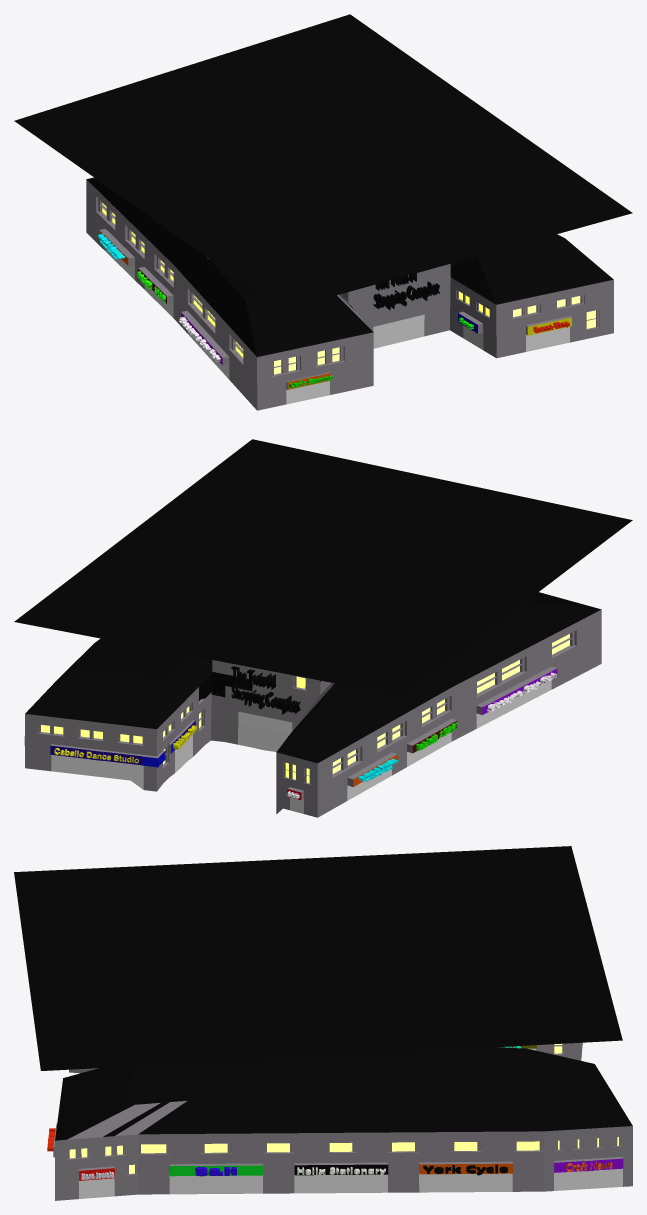
File: the_h_shopping_complex.fbx
The picture shows the model from 3 angles, top to bottom: view 1: azimuth 30°, elevation 25°; view 2: azimuth 150°, elevation 25°; view 3: azimuth 270°, elevation 25°; orthographic projection. The views are drawn at different scales.
Visible parts, largest first — view 1: Plane, Text; view 2: Plane, Text.010; view 3: Plane, Text.007, Text.006.
Part boxes in pixels (left/top/right/bottom): Plane: left=14, top=14, right=632, bottom=410; Text: left=373, top=273, right=439, bottom=309; Plane: left=14, top=439, right=632, bottom=817; Text.010: left=231, top=666, right=300, bottom=714; Plane: left=14, top=846, right=632, bottom=1200; Text.007: left=423, top=1164, right=507, bottom=1175; Text.006: left=297, top=1167, right=385, bottom=1175.
Size of the model in its own units: 562 by 203 by 699.
